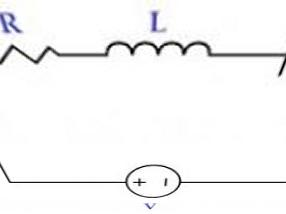inductor: (100, 35, 225, 68)
